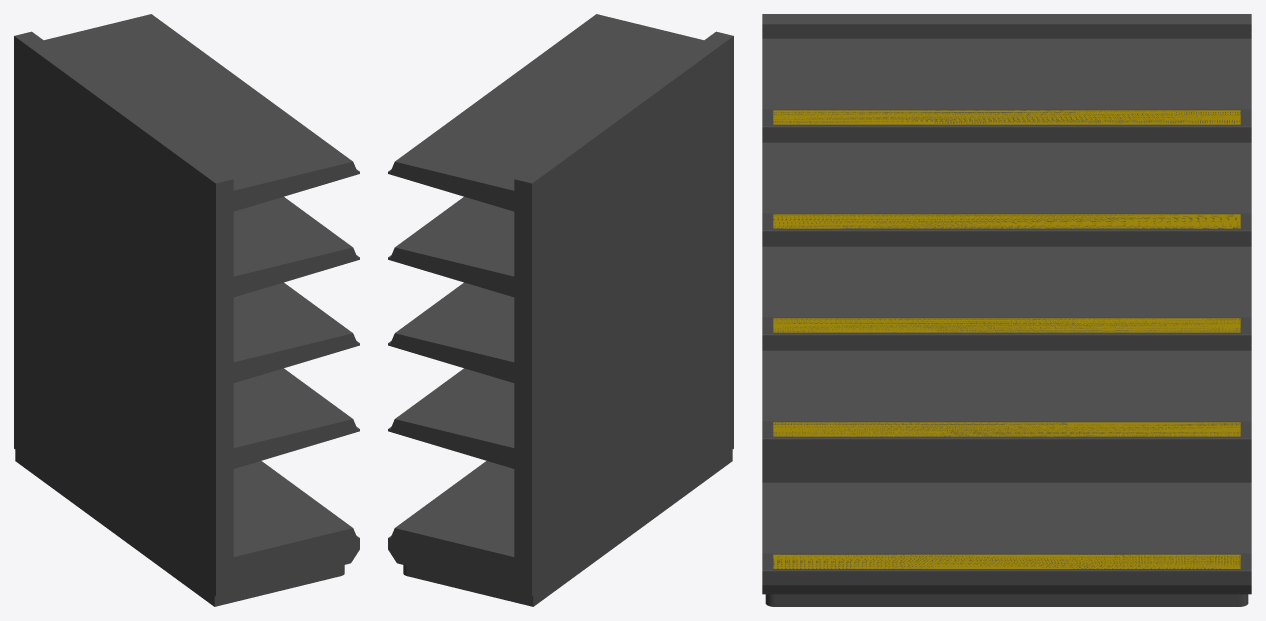
File: modelRegalStena.dae
3 views of the same model, side by side, from view 1: azimuth 30°, elevation 25°; view 2: azimuth 150°, elevation 25°; view 3: azimuth 270°, elevation 25° (orthographic). The views are drawn at different scales.
Parts seen in each view (by area): view 1: group_0; view 2: group_0; view 3: group_0 (×6).
Boxes of the visible parts, box(x1,y1,x2,y2) form: group_0: box(14, 14, 359, 606); group_0: box(388, 14, 733, 606); group_0 (×6): box(762, 14, 1251, 606).
Bounding box in the file's own units: 25.59 × 62.09 × 72.05.
